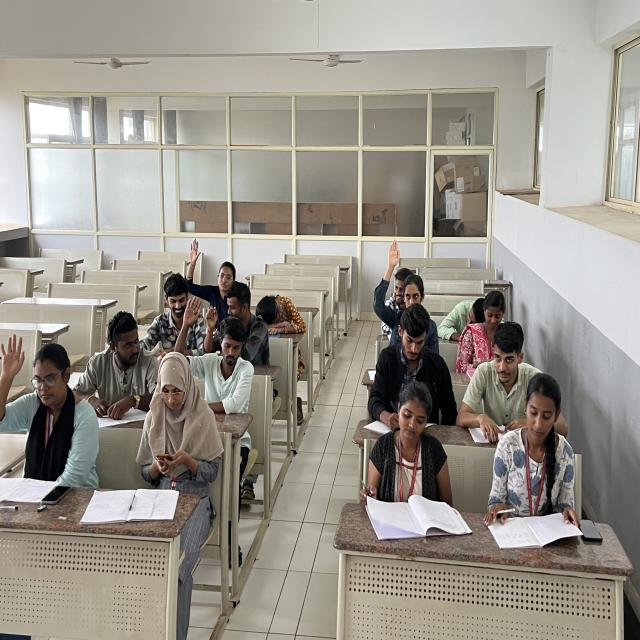Hand Rising: (0, 323, 92, 470), (178, 293, 248, 383), (373, 236, 433, 327), (188, 237, 237, 306)
Reading: (381, 380, 450, 534)
Sleeping: (254, 289, 307, 334), (436, 294, 486, 340)
Using Phone: (137, 353, 218, 483), (453, 290, 528, 369)
Writing: (483, 372, 575, 525), (368, 313, 441, 432)
